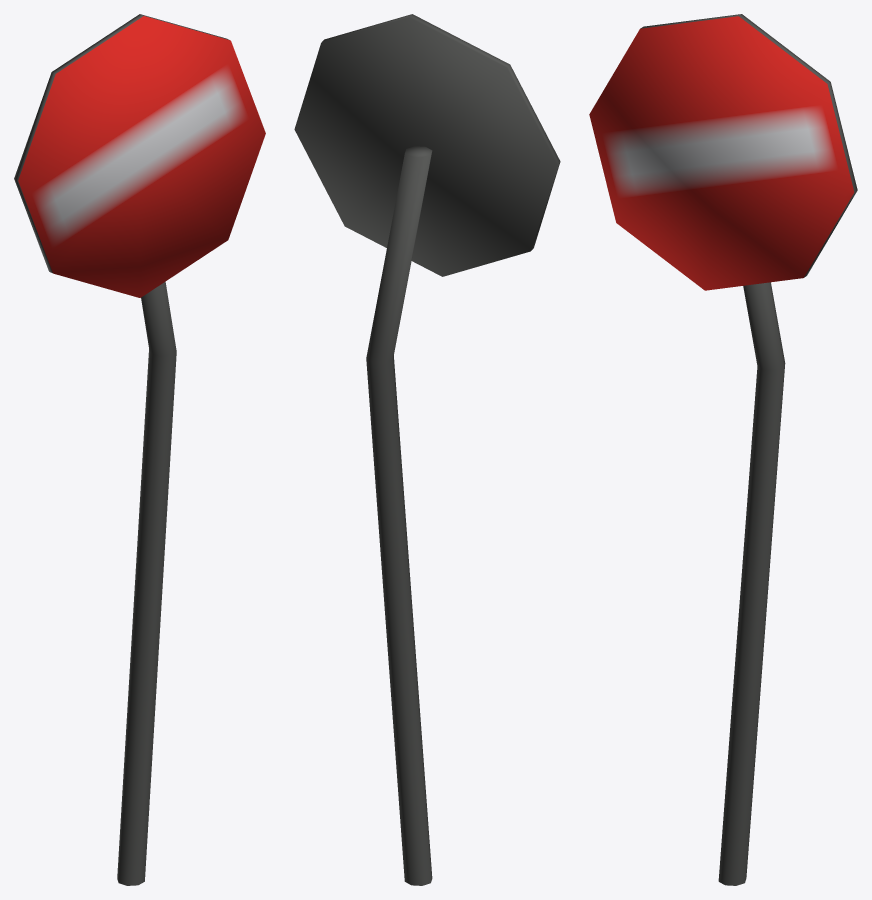
File: broken_stop_sign.fbx
3 views of the same model, side by side, from view 1: azimuth 30°, elevation 25°; view 2: azimuth 150°, elevation 25°; view 3: azimuth 330°, elevation 25° (orthographic).
Parts seen in each view (by area): view 1: broken_stop_sign; view 2: broken_stop_sign; view 3: broken_stop_sign.
Part boxes in pixels (box(x1,y1,x2,y2)): broken_stop_sign: box(14, 14, 265, 885); broken_stop_sign: box(294, 14, 560, 885); broken_stop_sign: box(589, 14, 857, 885).
Size of the model in its own units: 165 by 532 by 32.87.
